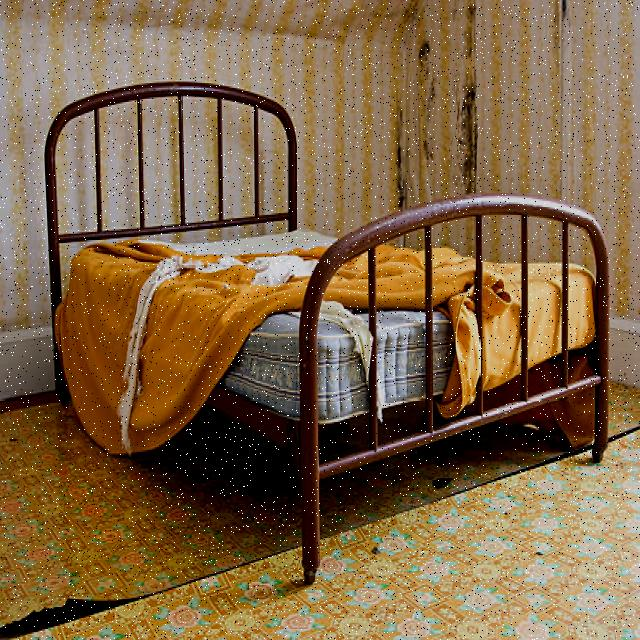bed: (61, 94, 590, 424)
